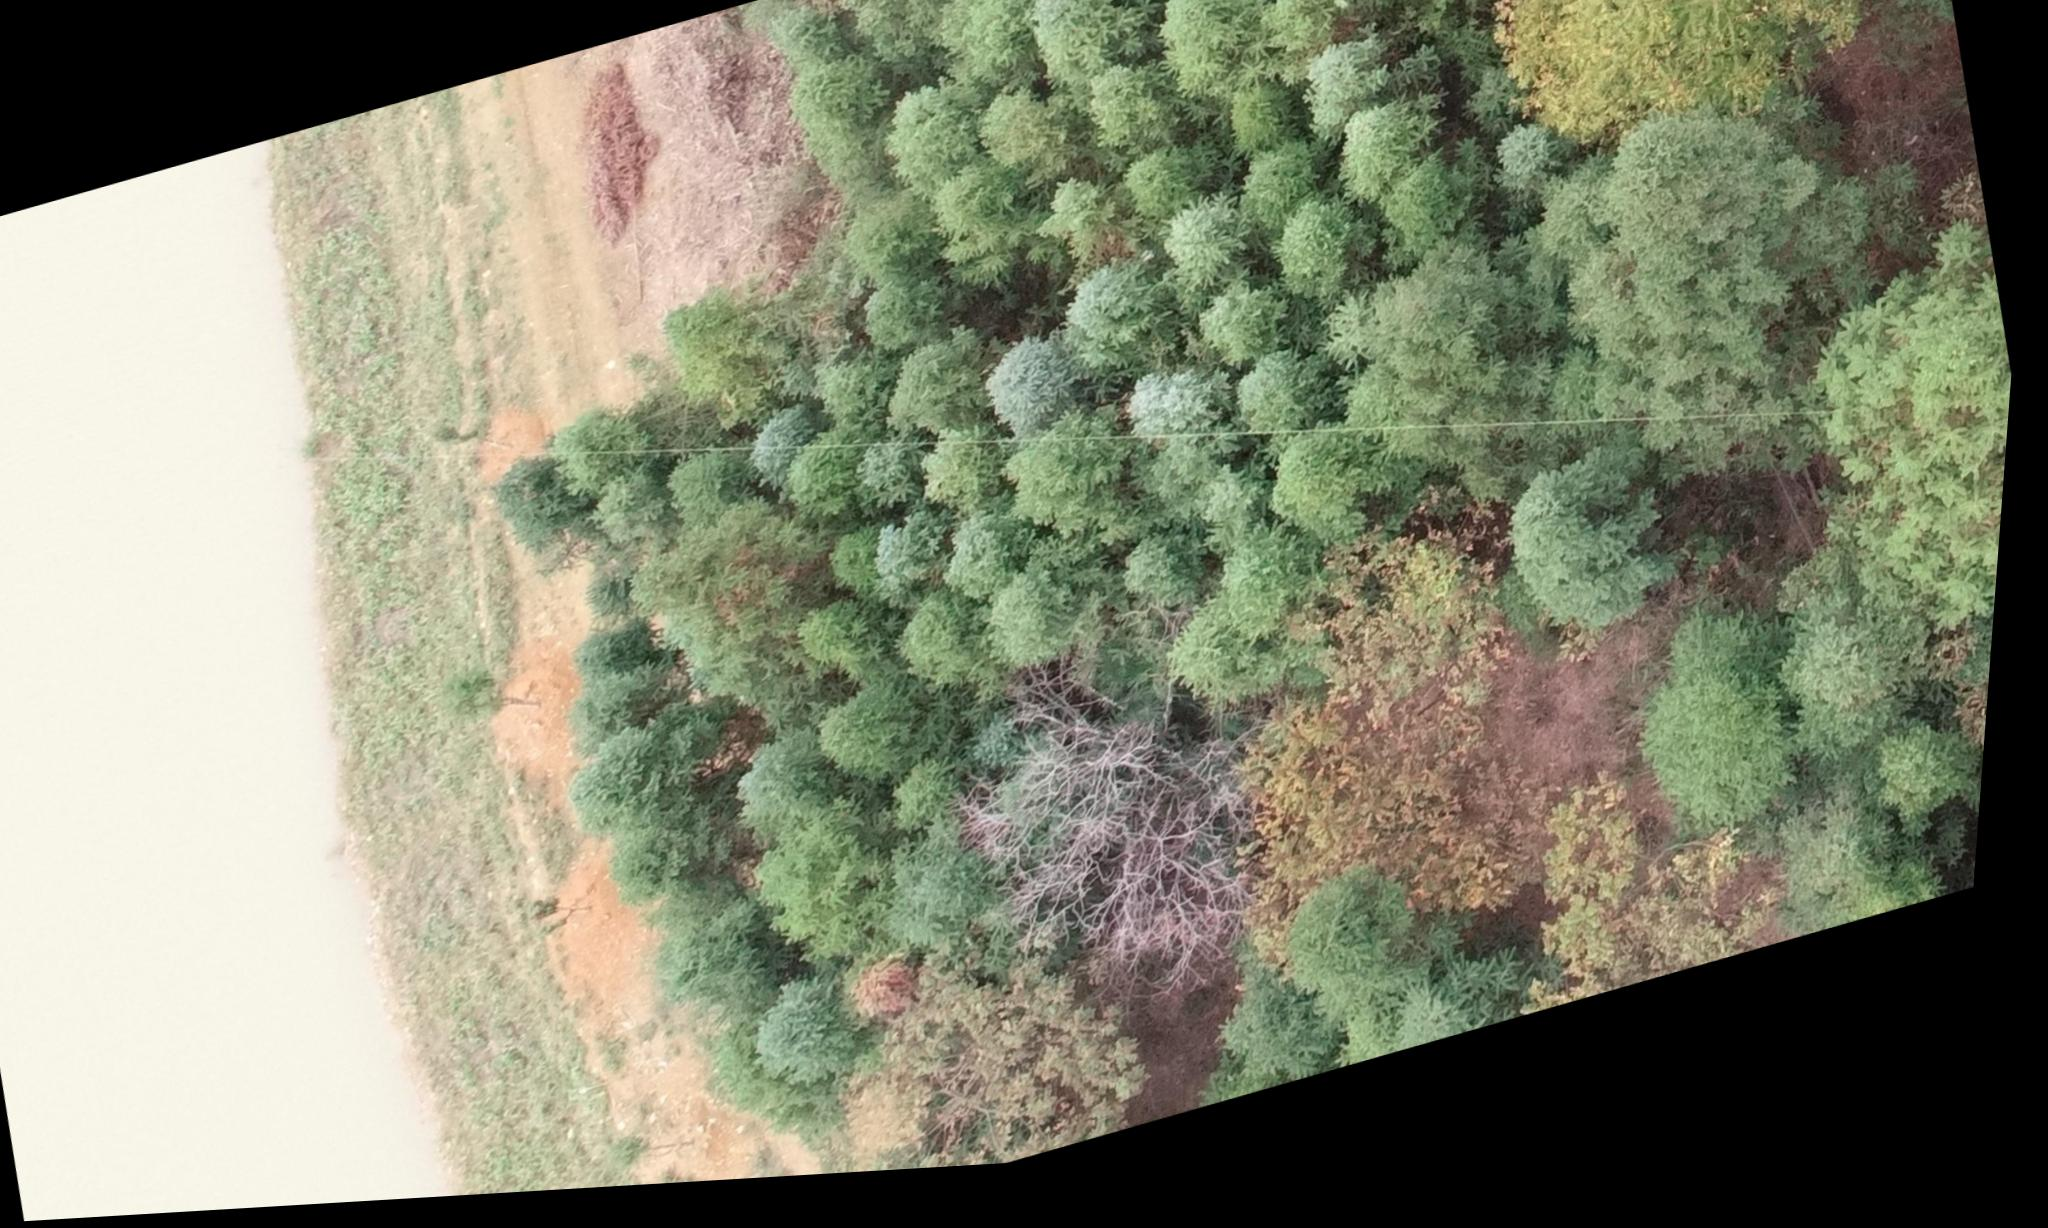dead: (930, 652, 1300, 1055)
heavy: (1210, 534, 1586, 981), (857, 963, 944, 1044)
light: (1427, 0, 1903, 203)
